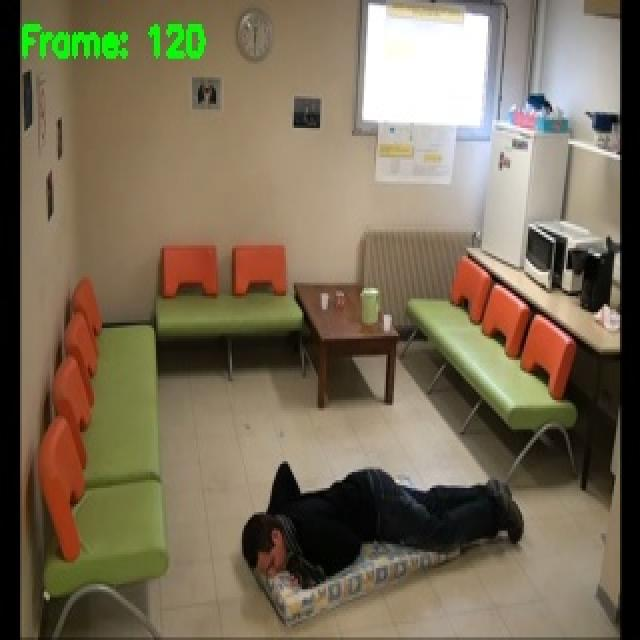Fall-Detected: (238, 466, 532, 590)
